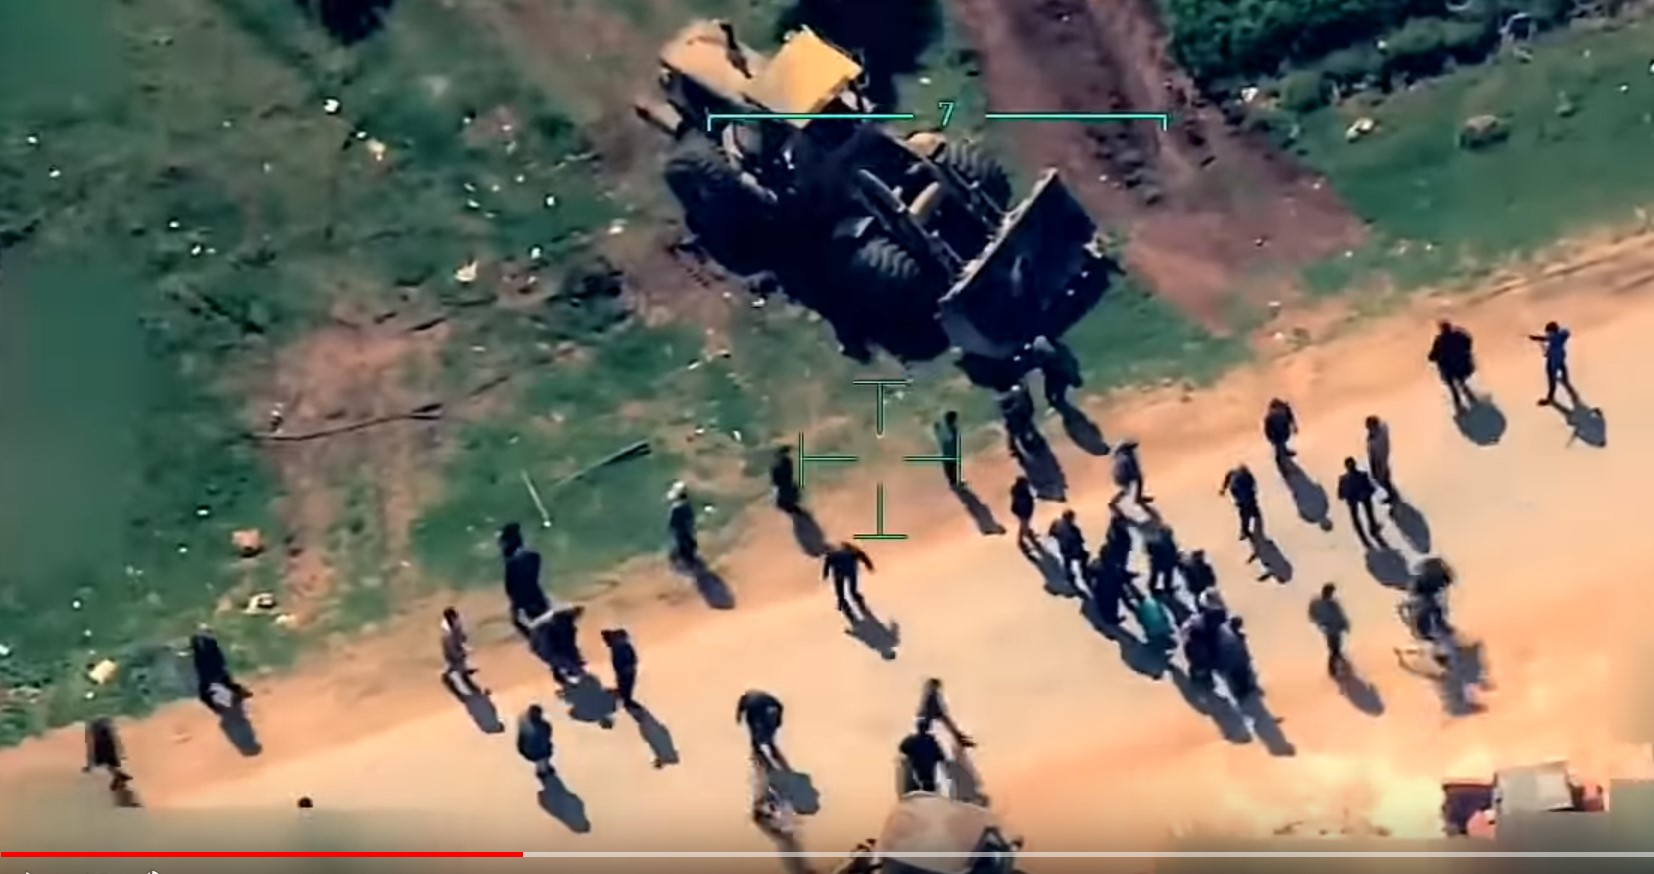araba: (620, 8, 1084, 366)
insan: (1420, 308, 1484, 422), (885, 723, 964, 812), (180, 622, 253, 717), (659, 460, 714, 562), (728, 676, 788, 769), (1306, 581, 1361, 683), (1213, 458, 1275, 547), (906, 676, 977, 752), (432, 595, 488, 690), (1100, 434, 1166, 511), (79, 710, 137, 791), (1535, 312, 1575, 423), (512, 696, 562, 784), (819, 531, 873, 614), (1358, 408, 1406, 500), (598, 617, 644, 712), (765, 435, 810, 529), (1266, 394, 1307, 474), (1337, 450, 1376, 534)
